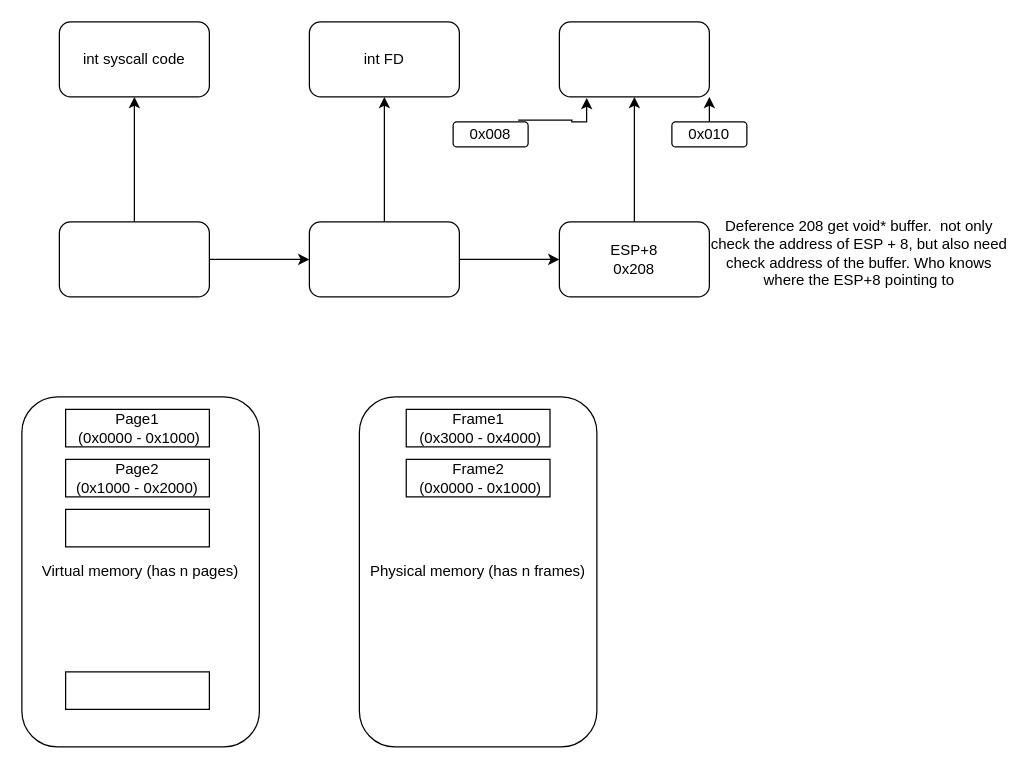
This 1031x769 diagram has some shape labels left out. The centre of each missing label's shape, as x and y in pixels:
"ESP" belongs at pixel 133 259.
"ESP+4" belongs at pixel 383 259.
"Void* Buffer" belongs at pixel 633 59.
